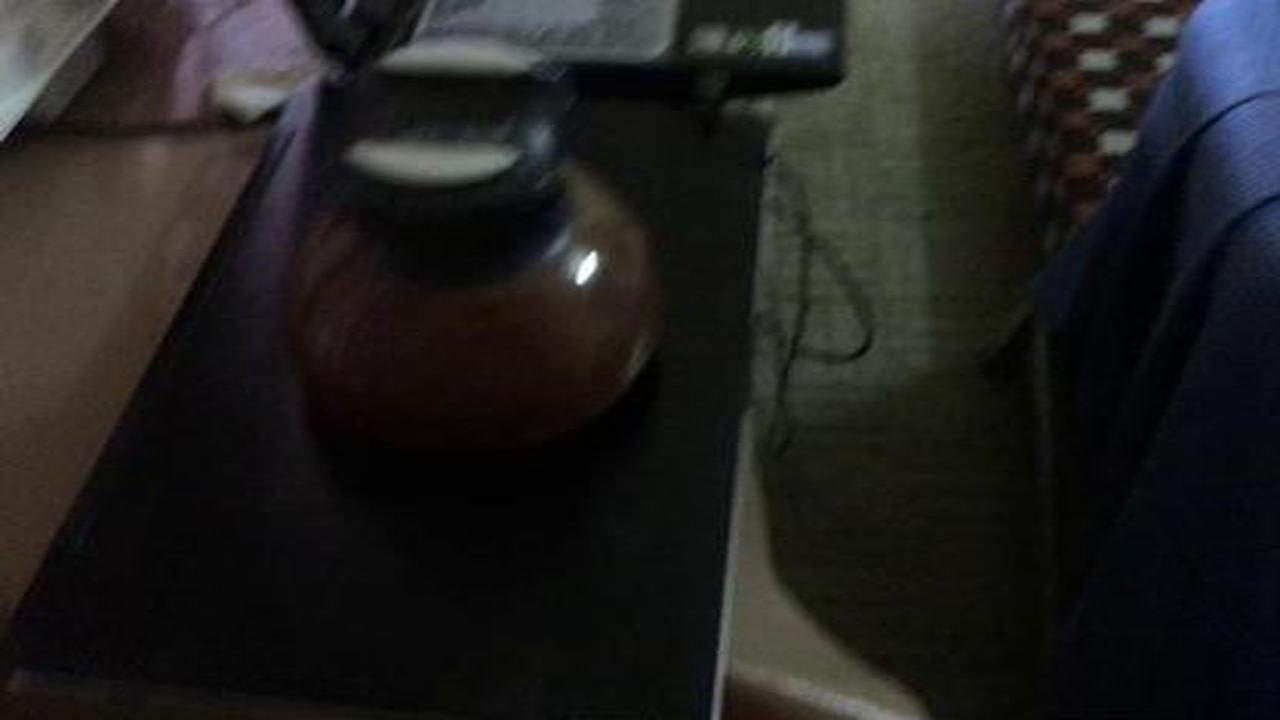insulator_pin: (247, 37, 696, 464)
